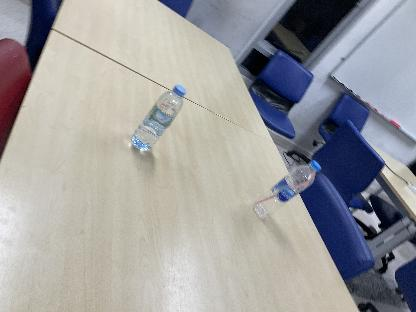Plastic Bottle: (253, 159, 321, 224), (130, 84, 186, 154)
